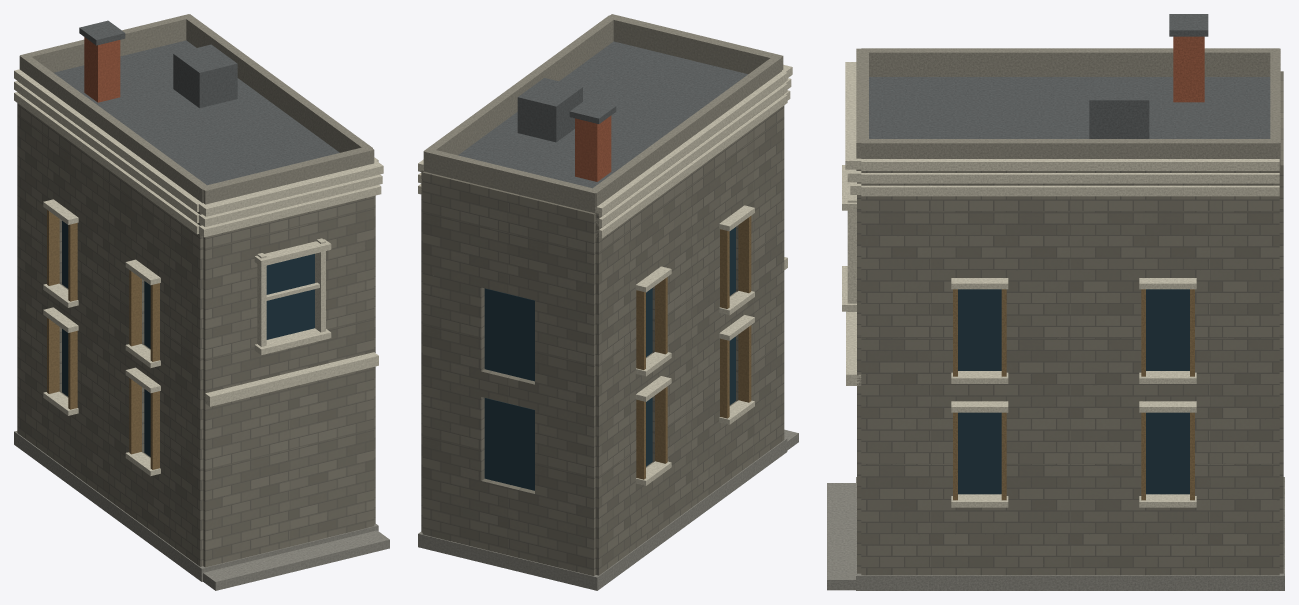
Rendered from WRHS7_lod2.glb.
3 renders of one model, left to right at view 1: azimuth 30°, elevation 25°; view 2: azimuth 150°, elevation 25°; view 3: azimuth 270°, elevation 25°, orthographic. The views are drawn at different scales.
Visible parts, largest first — view 1: WRHS7_LOD2; view 2: WRHS7_LOD2; view 3: WRHS7_LOD2.
Boxes of the visible parts, x1,y1,x2,y2 form: WRHS7_LOD2: [14, 14, 389, 590]; WRHS7_LOD2: [418, 14, 798, 590]; WRHS7_LOD2: [827, 14, 1284, 590].
Bounding box in the file's own units: 3.71 × 7.85 × 6.57.
Materials: 9 (7 with a texture image).
